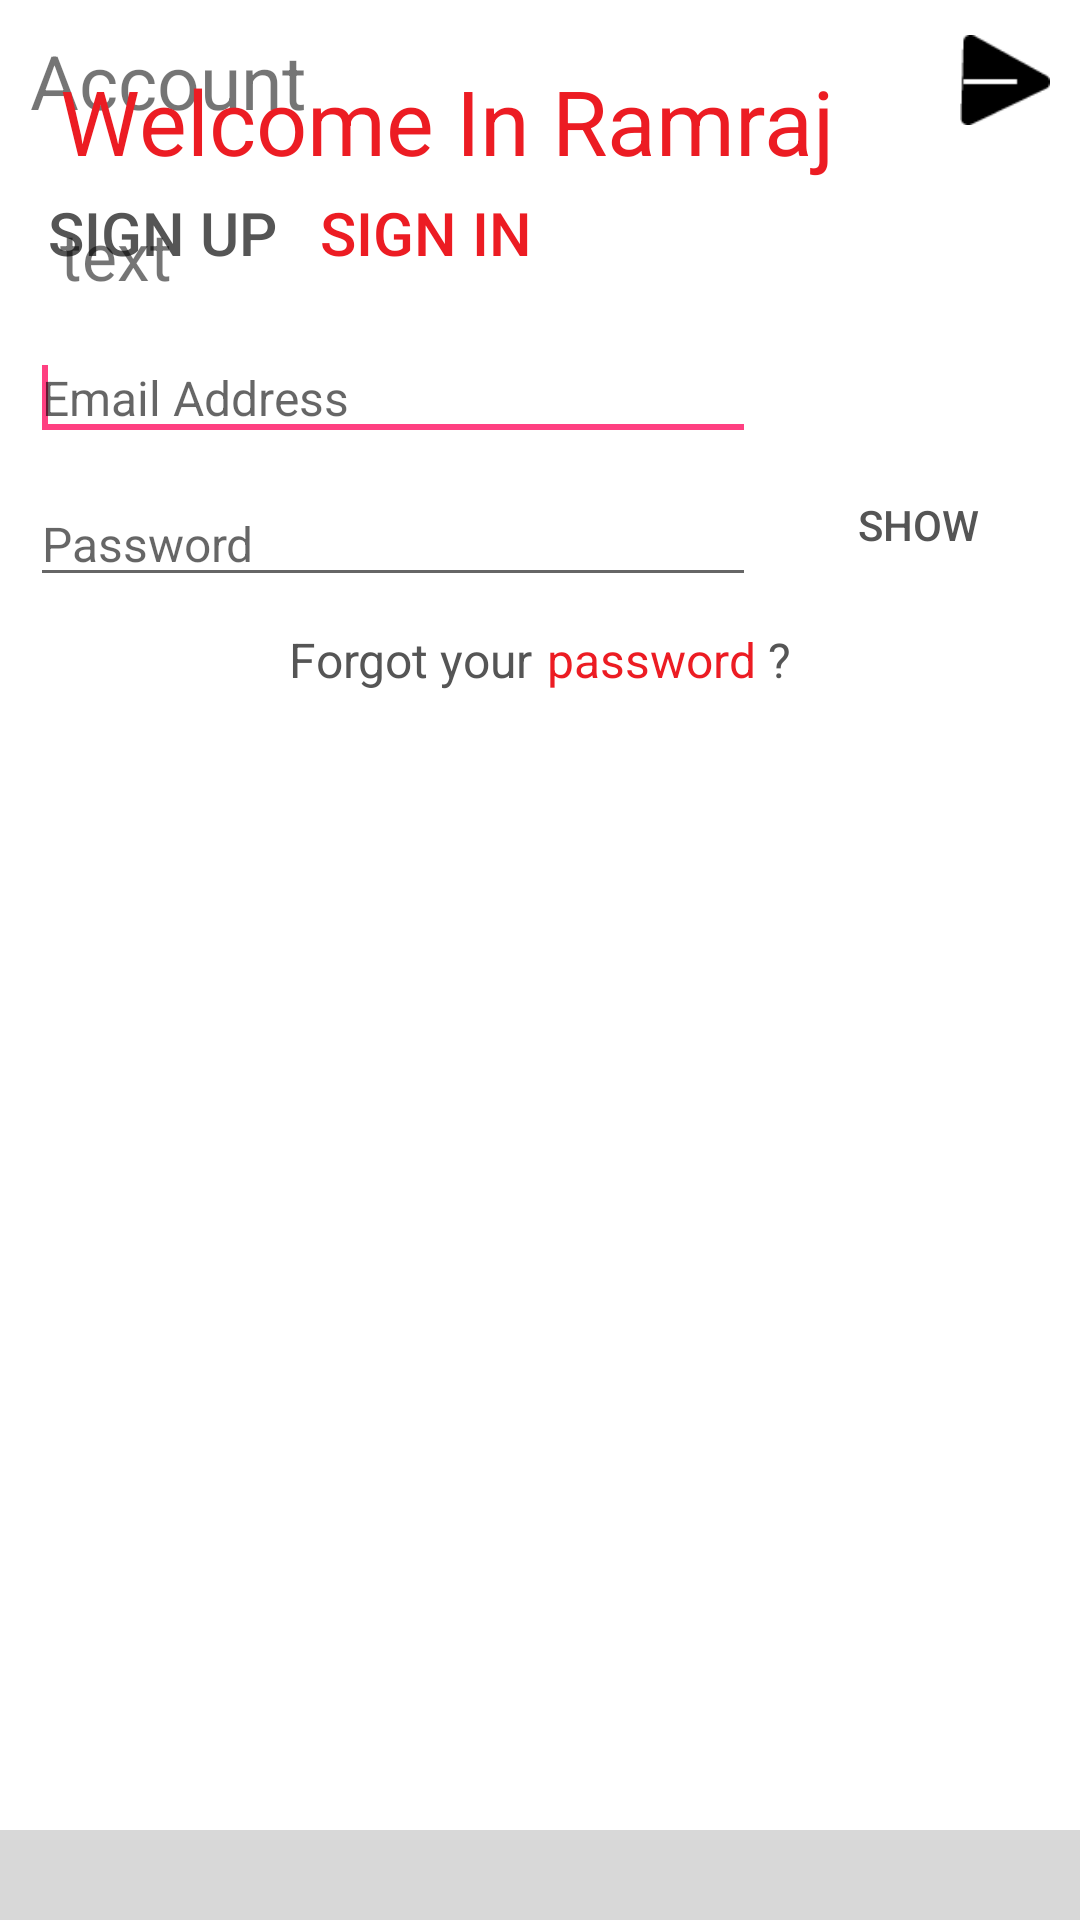

Screen size 1080*1920. Icon name, then its center in pixels as point (x, y):
submitconfig: point (1005, 80)
